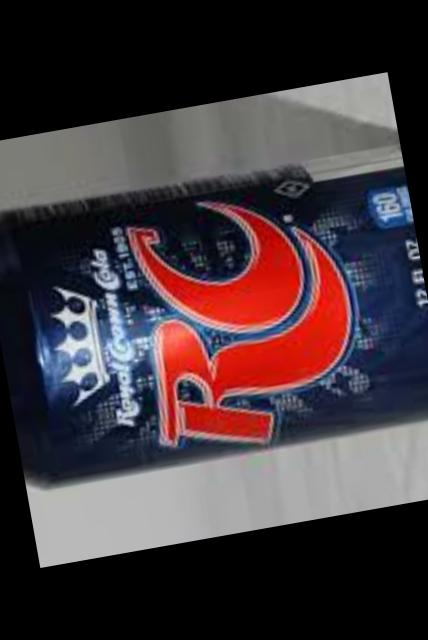metal: (0, 152, 428, 491)
